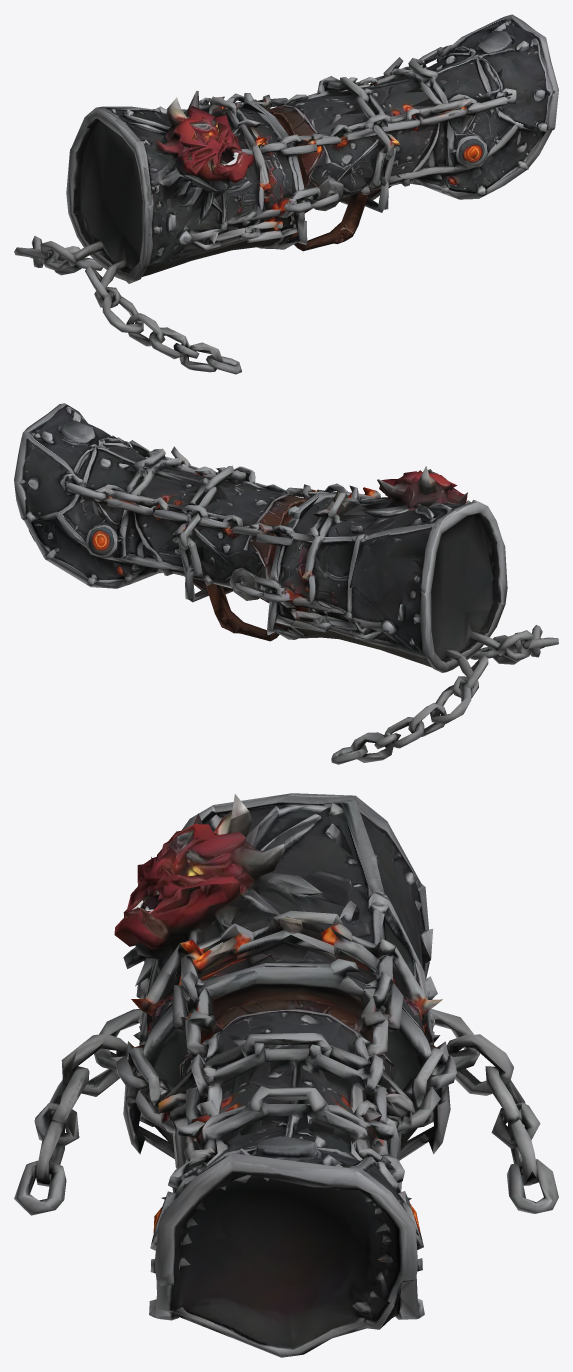
The model's file is prop_enra_bracer.glb.
3 views of the same model, one above another, from view 1: azimuth 30°, elevation 25°; view 2: azimuth 150°, elevation 25°; view 3: azimuth 270°, elevation 25° (orthographic). The views are drawn at different scales.
Parts seen in each view (by area): view 1: tripo_node_474d143f-85d7-4cfa-83c8-ebc426cb1ce6; view 2: tripo_node_474d143f-85d7-4cfa-83c8-ebc426cb1ce6; view 3: tripo_node_474d143f-85d7-4cfa-83c8-ebc426cb1ce6.
Part boxes in pixels (left/top/right/bottom): tripo_node_474d143f-85d7-4cfa-83c8-ebc426cb1ce6: left=14, top=14, right=558, bottom=374; tripo_node_474d143f-85d7-4cfa-83c8-ebc426cb1ce6: left=14, top=403, right=558, bottom=764; tripo_node_474d143f-85d7-4cfa-83c8-ebc426cb1ce6: left=14, top=793, right=558, bottom=1357.
Size of the model in its own units: 0.9812 by 0.4655 by 0.552.
1 material, 1 textured.
